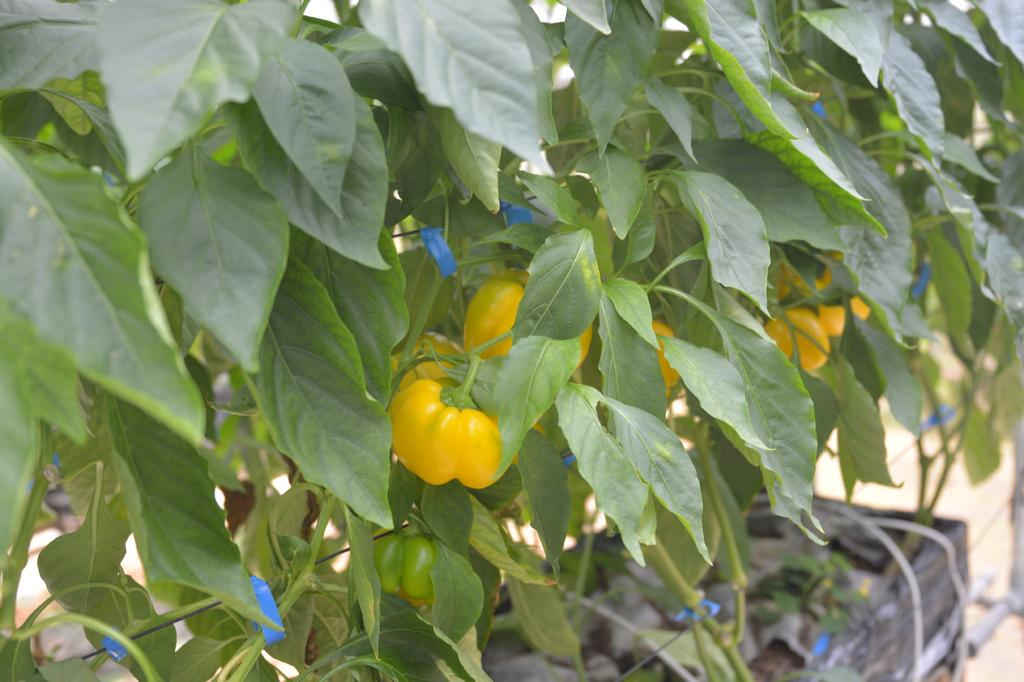matured: (386, 362, 518, 487)
